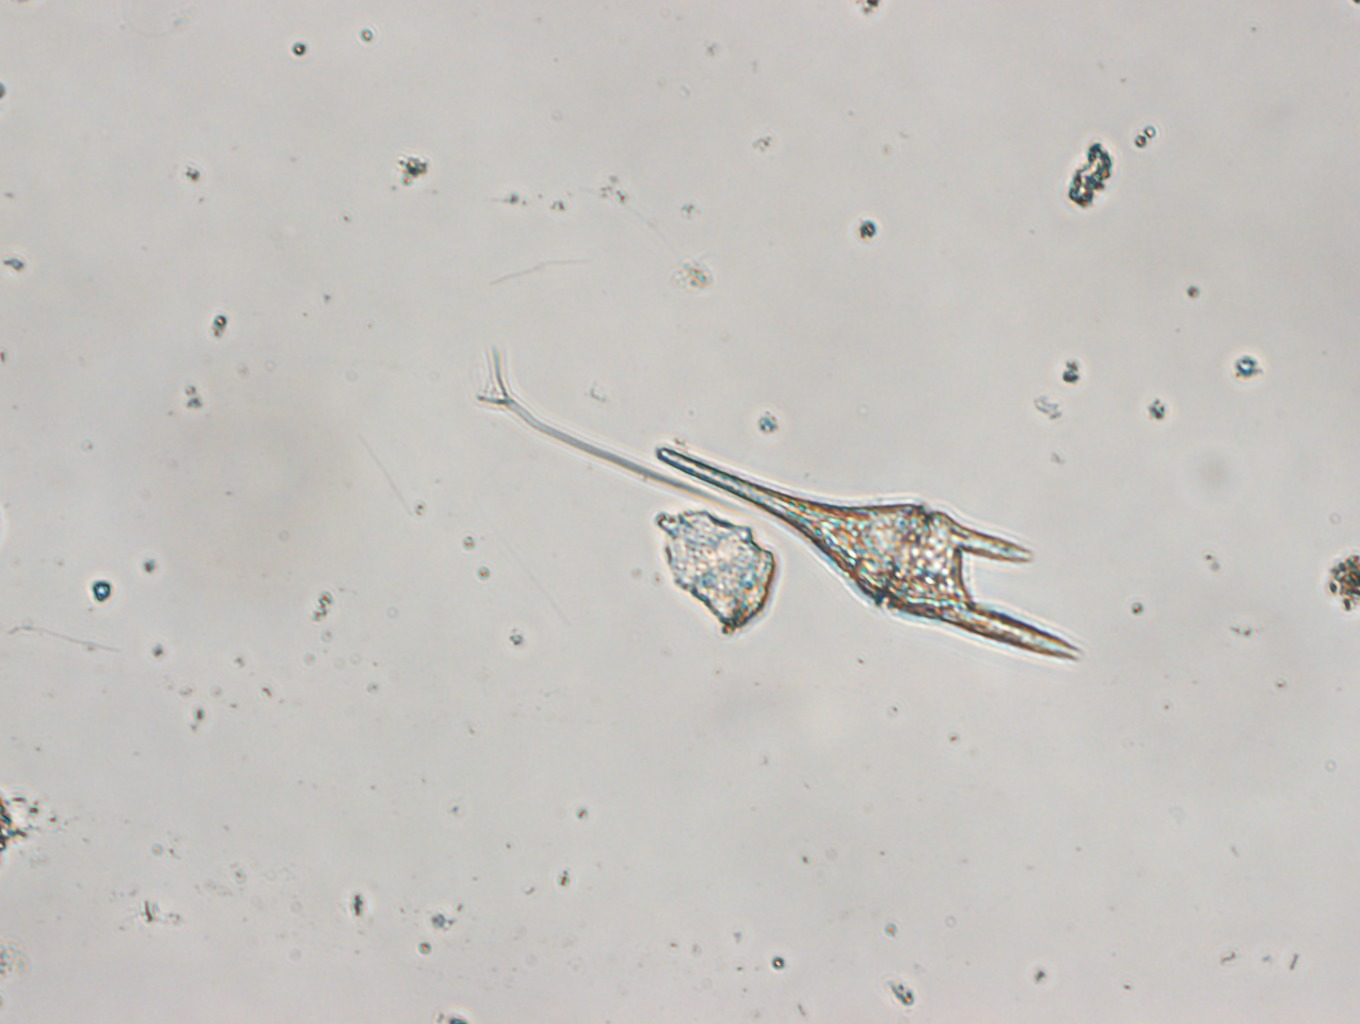ceratium furca: (649, 440, 1093, 665)
